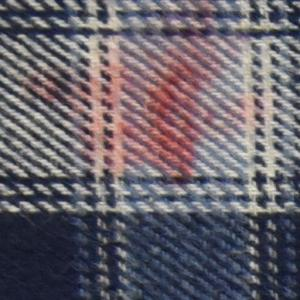Stain: (20, 1, 277, 193)
